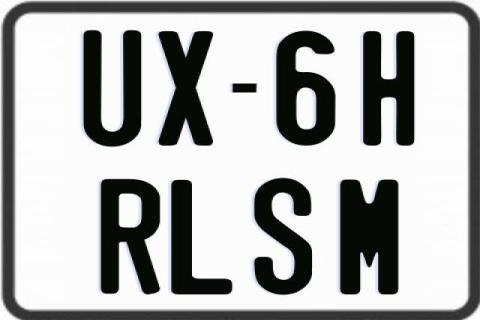0: (273, 30, 338, 146)
H: (363, 30, 416, 148)
L: (170, 180, 236, 298)
M: (339, 177, 399, 293)
R: (100, 180, 164, 300)
S: (254, 176, 315, 294)
U: (82, 31, 142, 147)
X: (156, 31, 216, 147)
